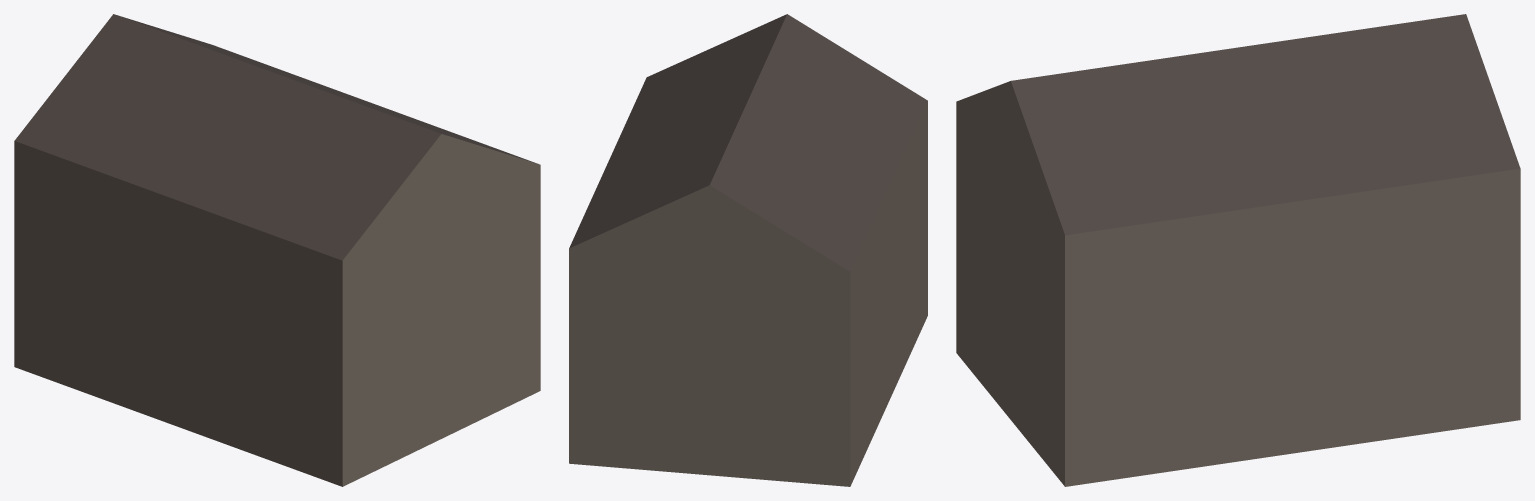
3 renders of one model, left to right at view 1: azimuth 30°, elevation 25°; view 2: azimuth 150°, elevation 25°; view 3: azimuth 270°, elevation 25°, orthographic. The views are drawn at different scales.
Parts seen in each view (by area): view 1: HP-w776801026; view 2: HP-w776801026; view 3: HP-w776801026.
Part boxes in pixels (box(x1,y1,x2,y2)): HP-w776801026: box(14, 14, 540, 486); HP-w776801026: box(569, 14, 927, 486); HP-w776801026: box(956, 14, 1520, 486).
Bounding box in the file's own units: 10.27 × 8.09 × 12.2.
